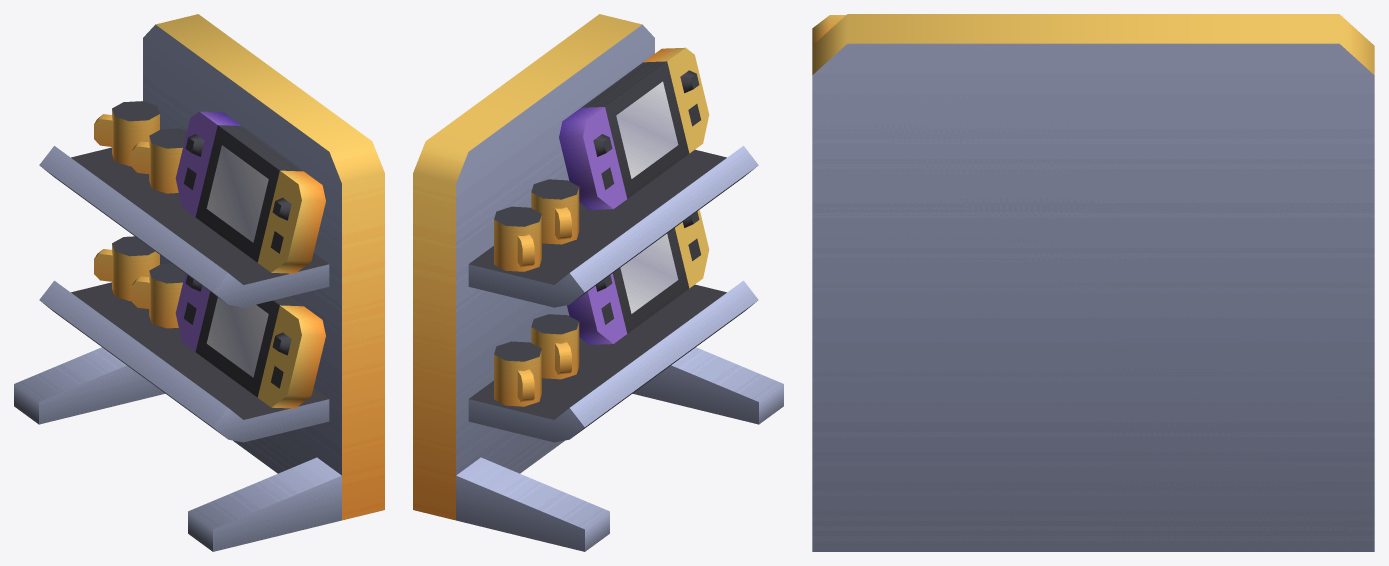
Rendered from prizes_lev2.glb.
3 views of the same model, side by side, from view 1: azimuth 30°, elevation 25°; view 2: azimuth 150°, elevation 25°; view 3: azimuth 270°, elevation 25° (orthographic). The views are drawn at different scales.
Parts seen in each view (by area): view 1: prizes_lev2; view 2: prizes_lev2; view 3: prizes_lev2.
Boxes of the visible parts, x1,y1,x2,y2 form: prizes_lev2: [14, 14, 384, 551]; prizes_lev2: [413, 14, 783, 551]; prizes_lev2: [812, 14, 1374, 551].
Bounding box in the file's own units: 1.6 × 3.2 × 3.21.
1 material, 1 textured.
